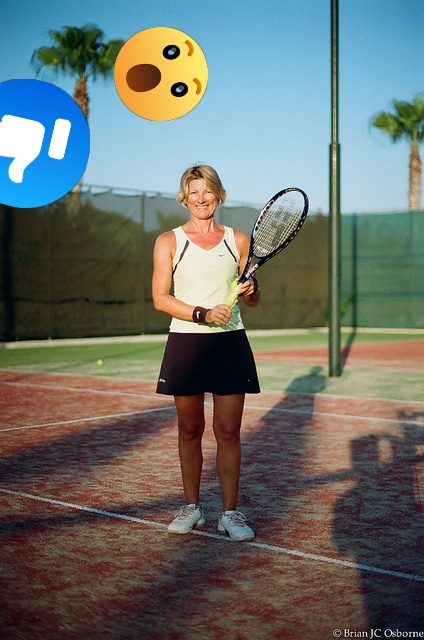like: (0, 79, 90, 208)
wow: (114, 27, 208, 121)
